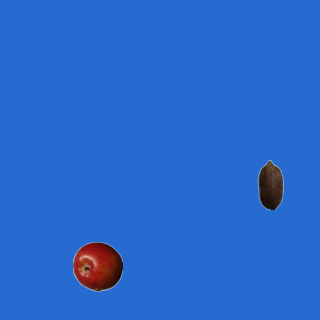Apple Braeburn: (72, 241, 122, 291)
Nut Pecan: (245, 159, 295, 209)
